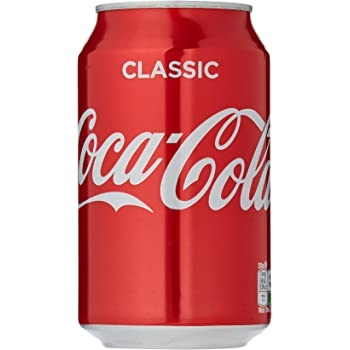metal: (66, 1, 281, 348)
